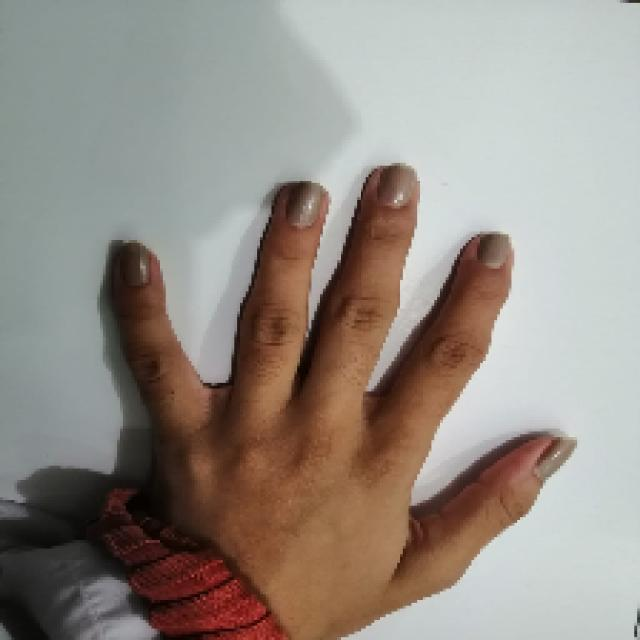Nail: (286, 181, 325, 229), (377, 164, 416, 209), (535, 439, 576, 481), (120, 242, 151, 286), (476, 232, 510, 269)
